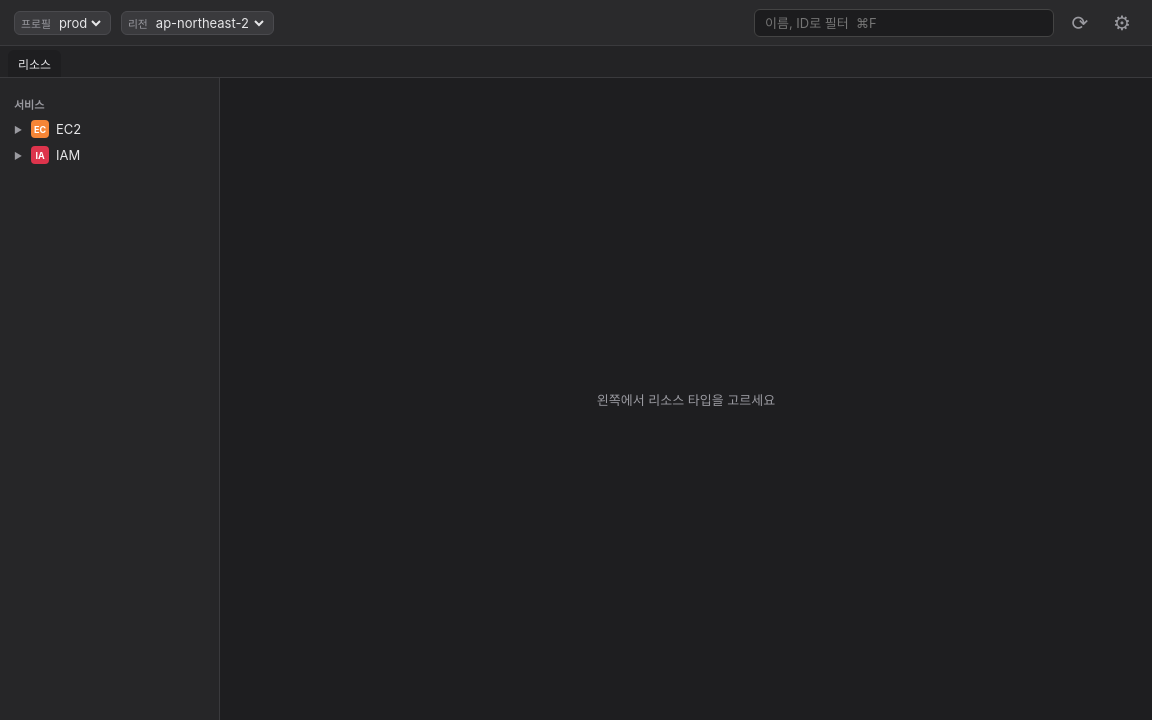
selecting a type lists resources
This screenshot has width=1152, height=720.
Click the button "▶ EC EC2" at (48, 129), box [14,120,81,138]
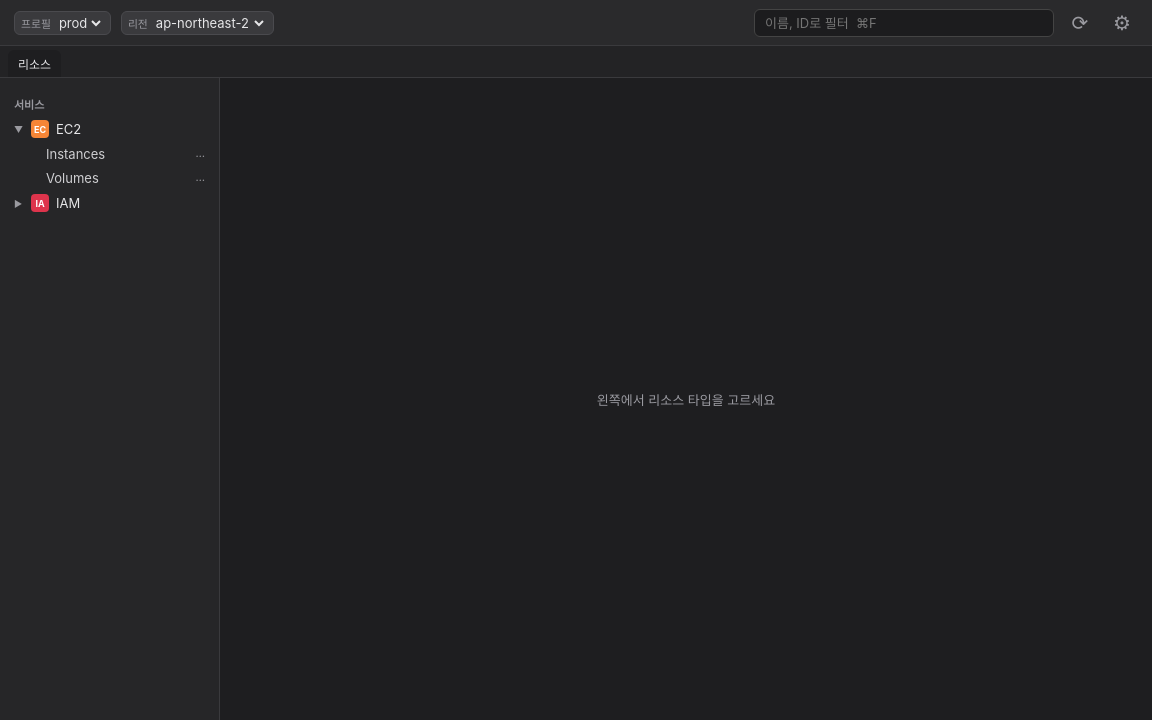
Click the text "Instances" at (76, 154), box [46,146,105,162]
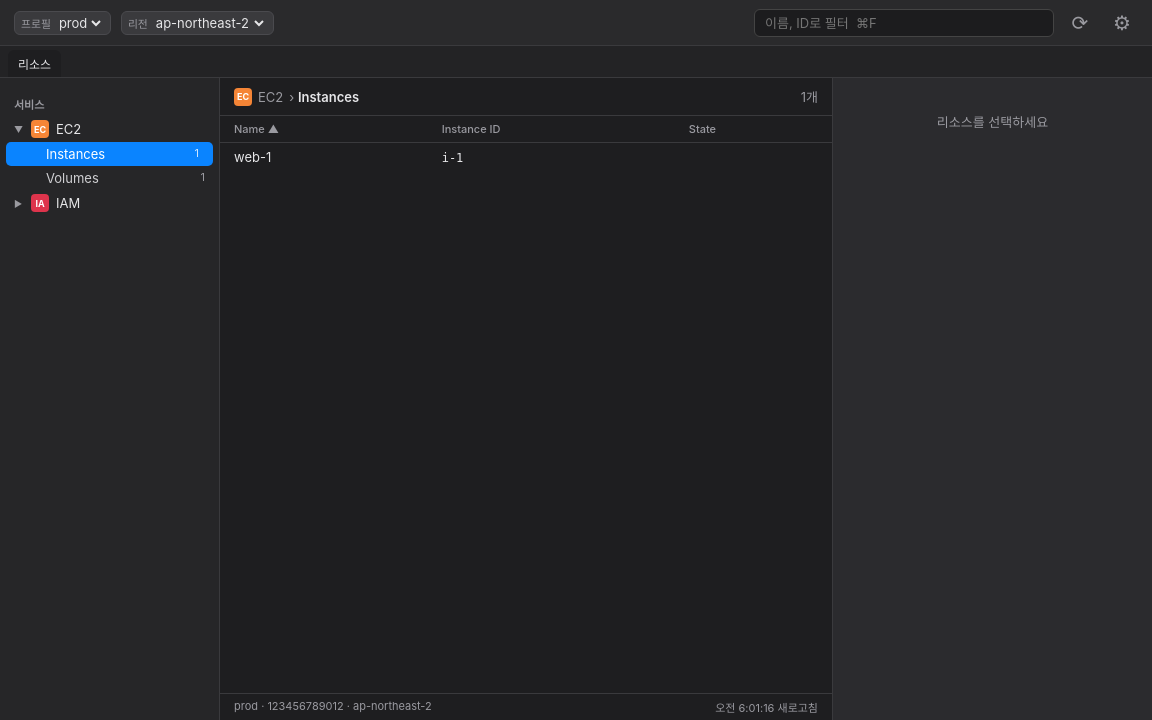
expect the text "web-1" is shown: met, box [220,142,428,171]
